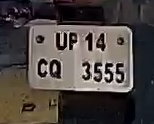1: (84, 30, 96, 56)
3: (79, 61, 91, 84)
4: (95, 31, 110, 54)
5: (115, 60, 128, 88), (102, 62, 115, 87), (92, 61, 103, 86)
C: (34, 53, 50, 82)
P: (68, 31, 79, 54)
Q: (48, 58, 64, 83)
U: (53, 30, 68, 53)
